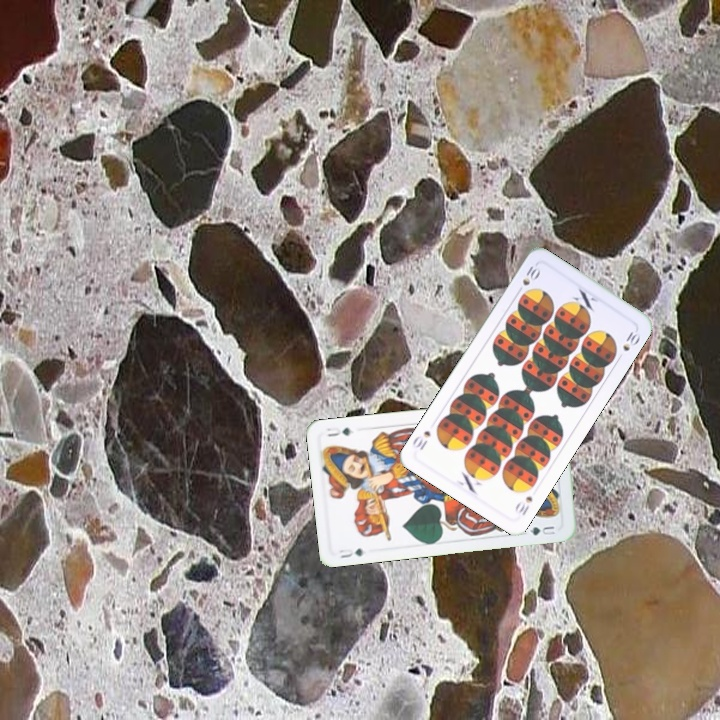GU: (335, 544, 366, 561)
S10: (514, 262, 543, 296), (511, 492, 535, 518)
